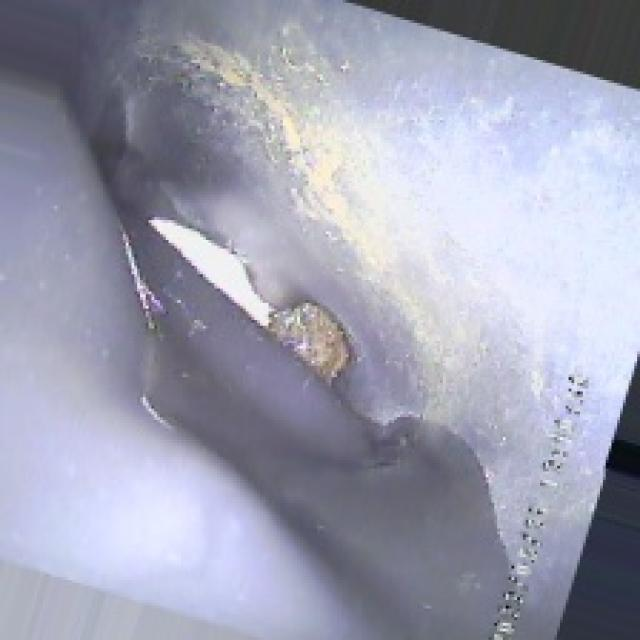shape_deformation: (52, 80, 514, 489)
